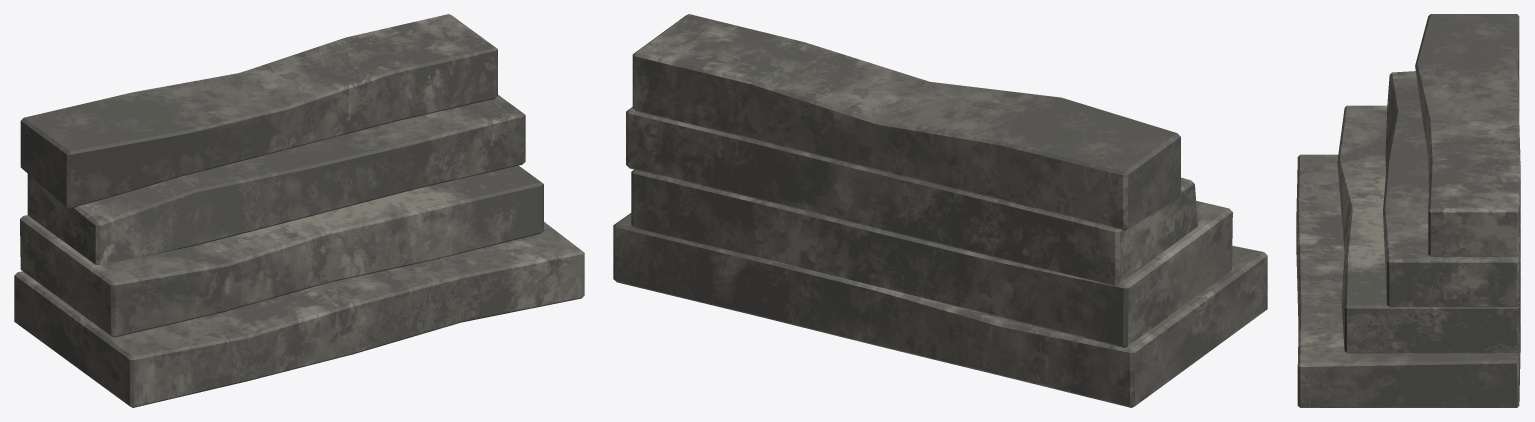
File: StoneWall_StoneStairs.fbx
3 renders of one model, left to right at view 1: azimuth 30°, elevation 25°; view 2: azimuth 150°, elevation 25°; view 3: azimuth 270°, elevation 25°, orthographic. The views are drawn at different scales.
Visible parts, largest first — view 1: SM_StoneStairs; view 2: SM_StoneStairs; view 3: SM_StoneStairs.
Boxes of the visible parts, x1,y1,x2,y2 form: SM_StoneStairs: (14,14,584,407); SM_StoneStairs: (613,14,1267,407); SM_StoneStairs: (1296,14,1520,407).
Size of the model in its own units: 194 by 84.05 by 88.42.
